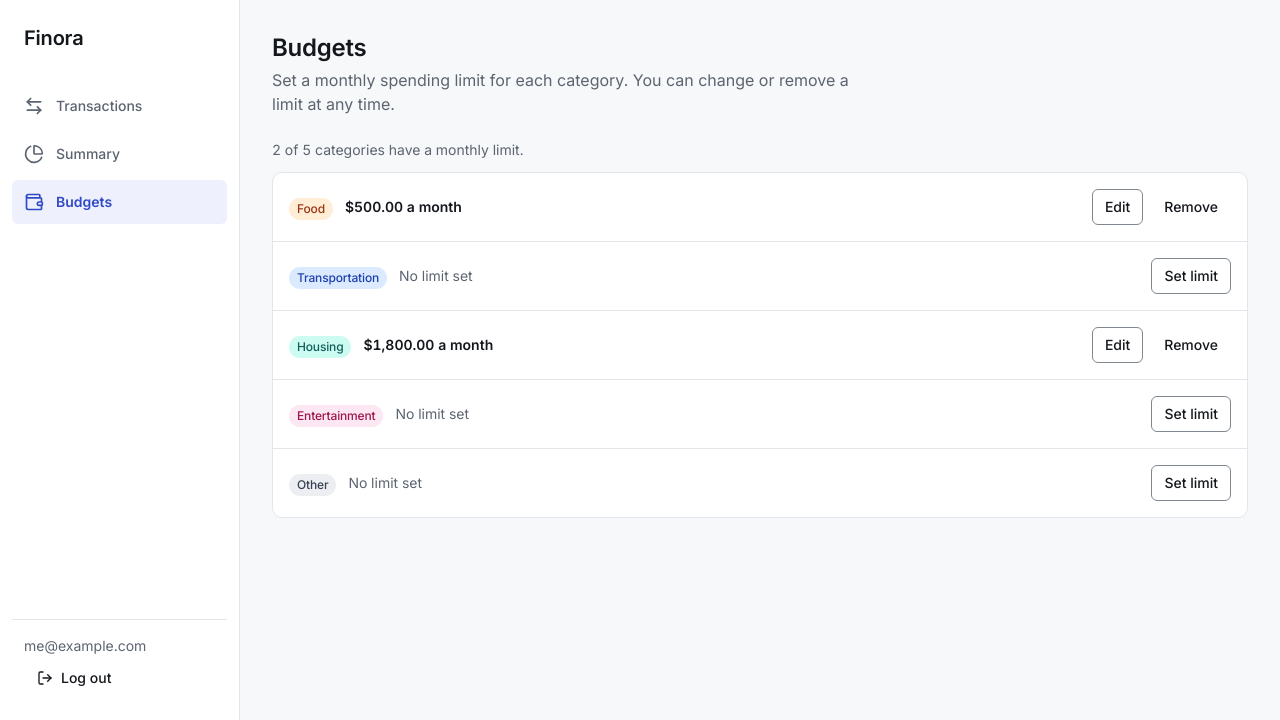
Test: setting and editing a limit (US-32) › sets a limit for a category without one, and says it was saved
Expected: the heading "Food" is shown, top-left (289, 194), bottom-right (333, 220)
Step 1. Click the button "Set limit" in the row of "Other" → (1191, 483), box top-left (1152, 465), bottom-right (1231, 501)
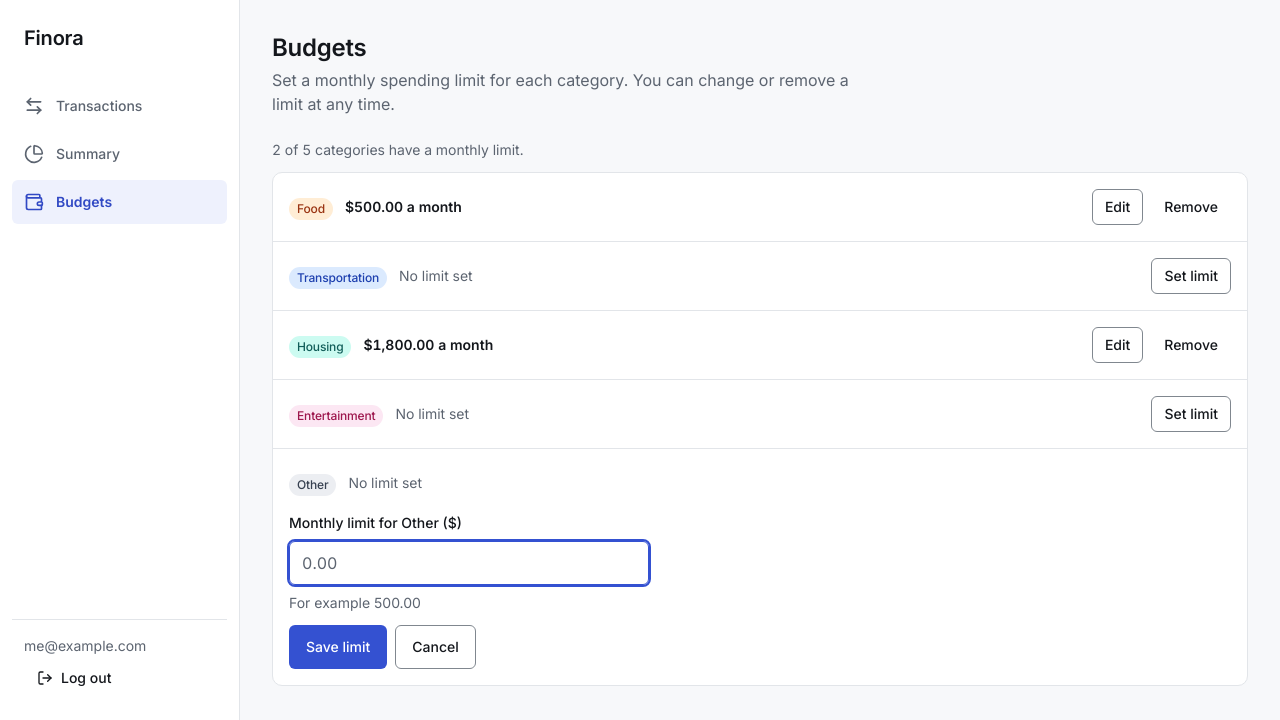
Step 2. Type "75" into the field labelled "Monthly limit for Other ($)" → (469, 563), box top-left (289, 541), bottom-right (649, 585)
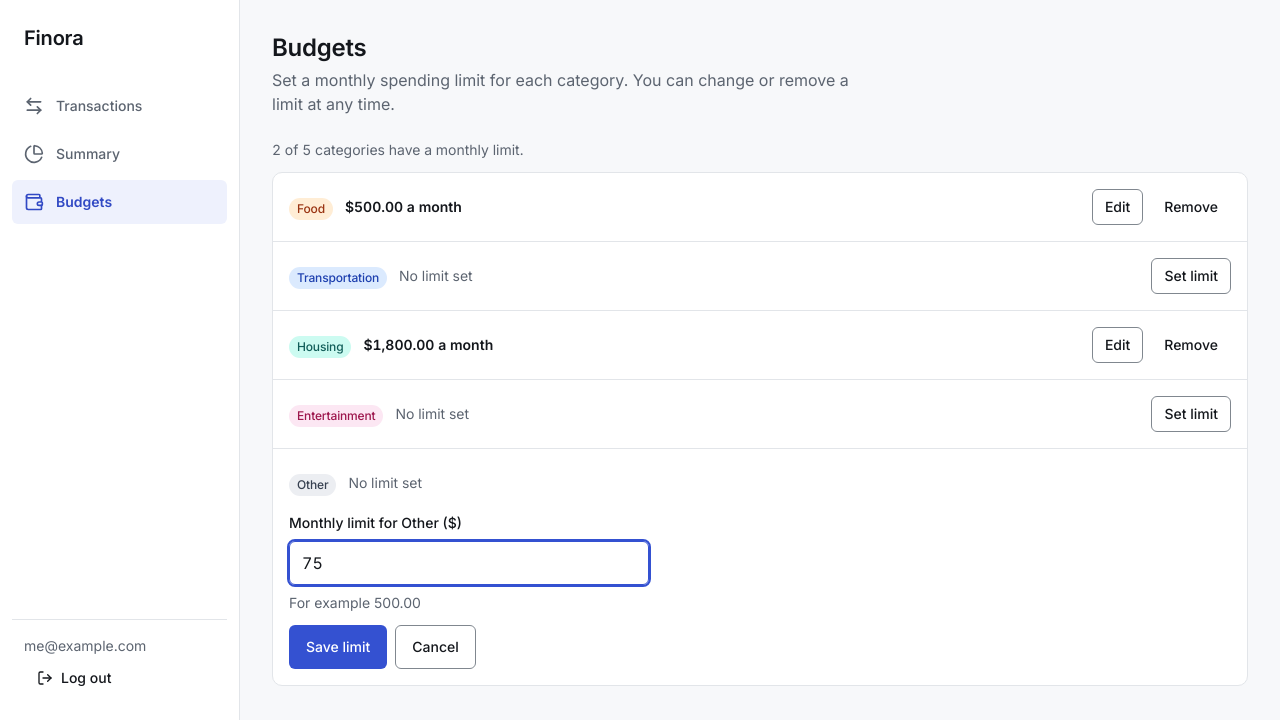
Step 3. Click the button "Save limit" → (338, 647), box top-left (289, 625), bottom-right (387, 669)
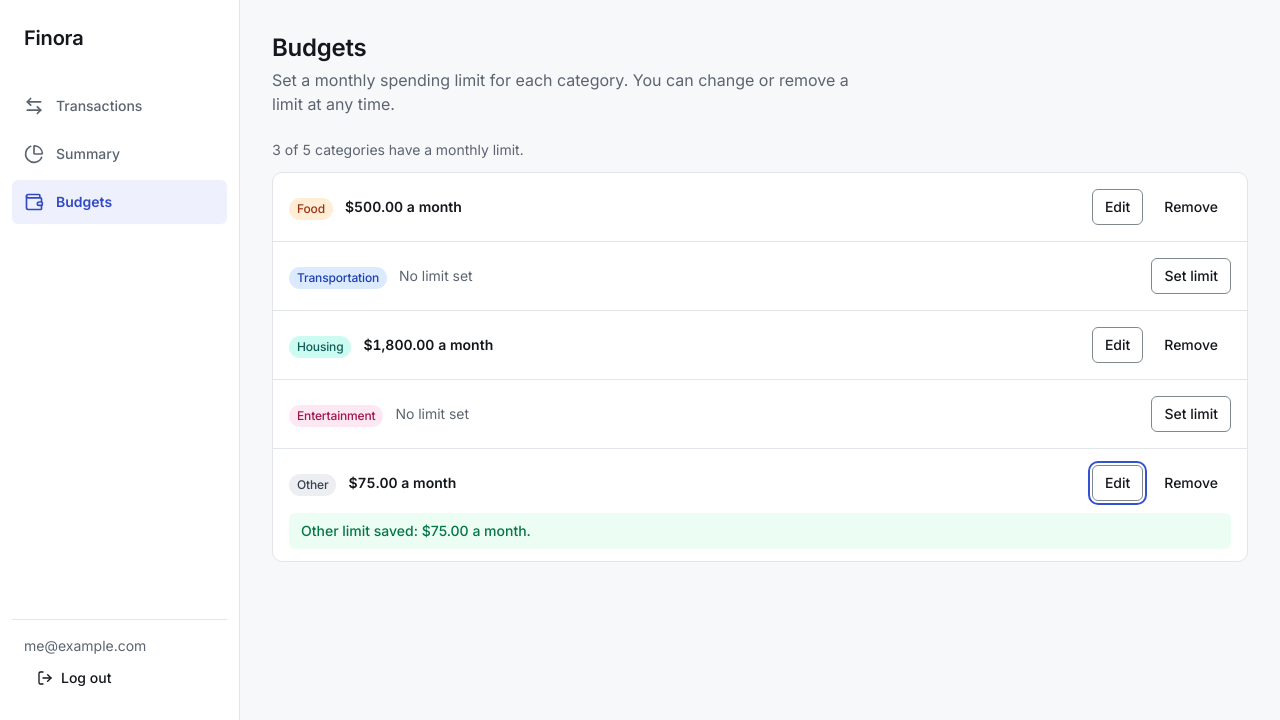
Expected: the text "$75.00 a month" is shown, top-left (348, 471), bottom-right (456, 495)
Expected: the message reads "Other limit saved: $75.00 a month.", top-left (301, 522), bottom-right (531, 539)
